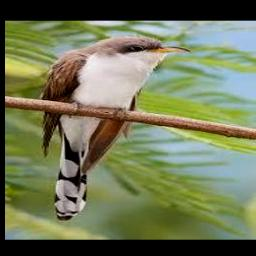Cuckoo: (41, 35, 190, 220)
